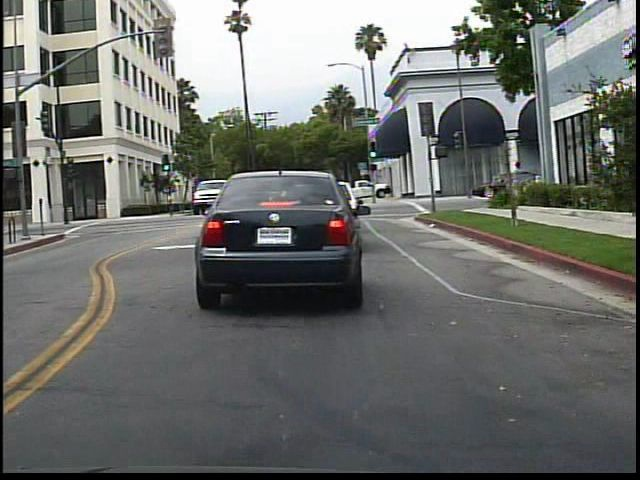person: (500, 159, 529, 207)
